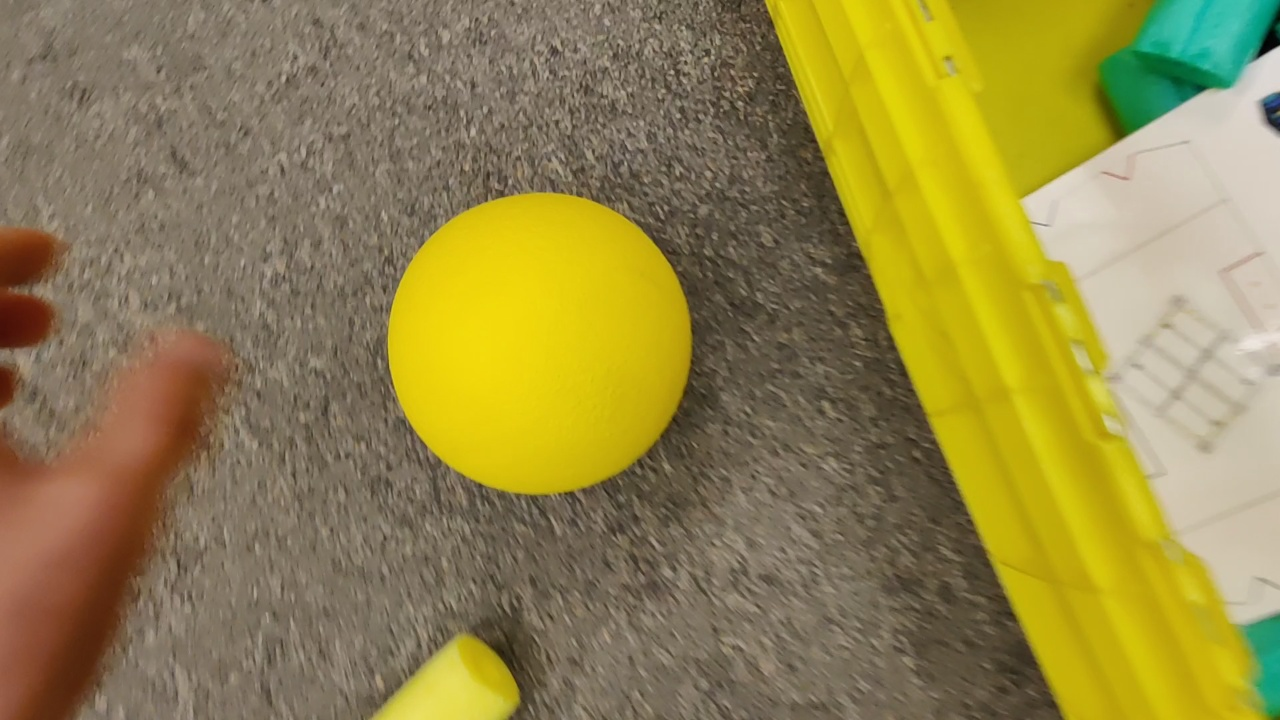Ball: (387, 193, 696, 497)
